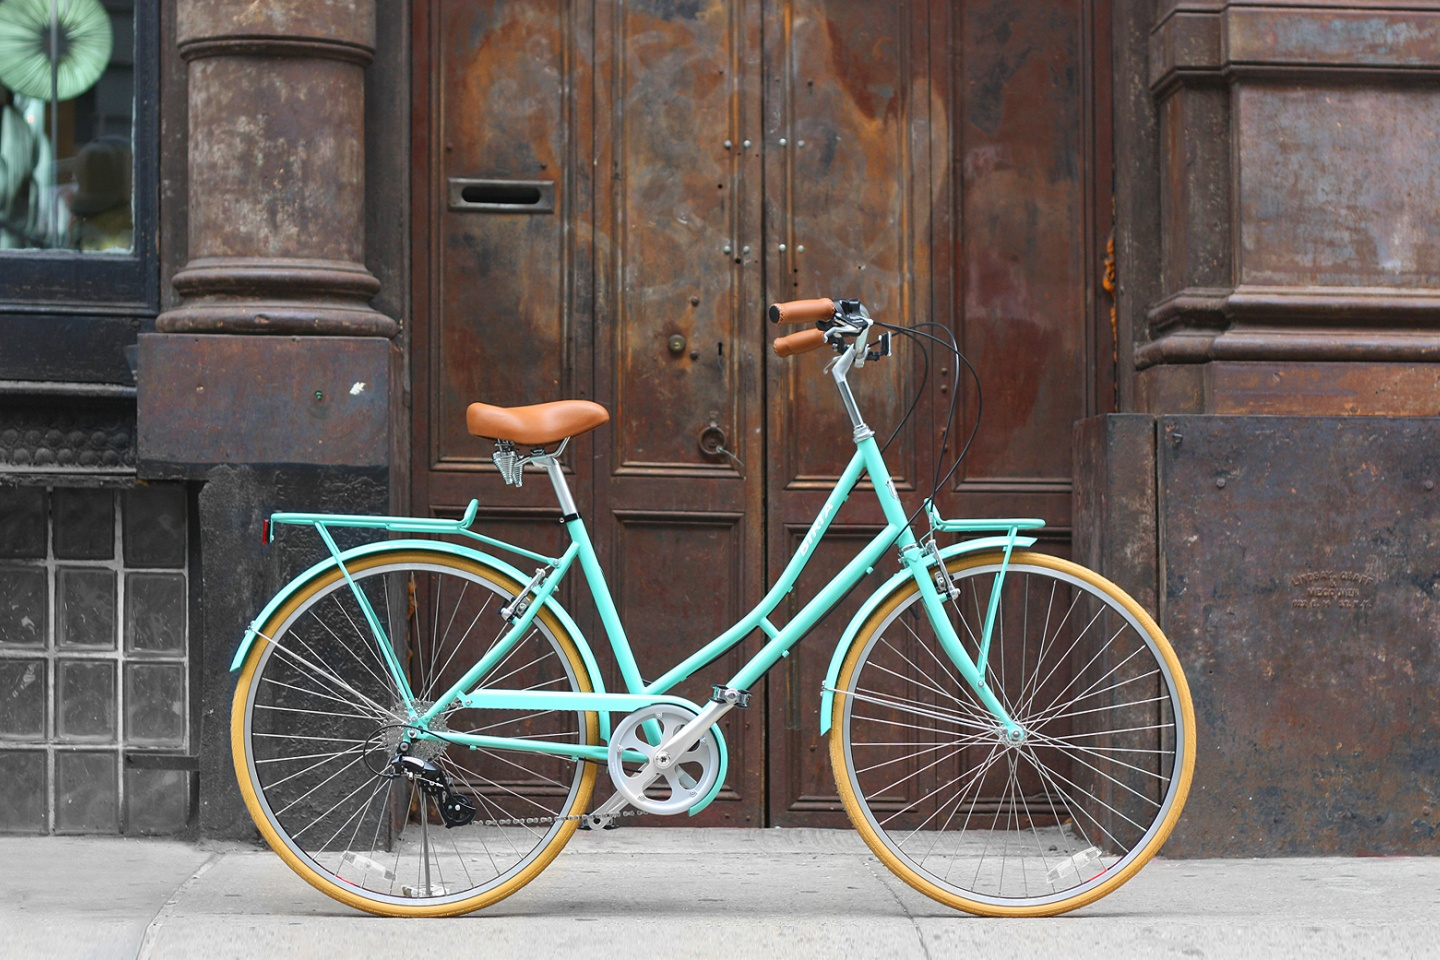bicycle: (217, 292, 1202, 914)
